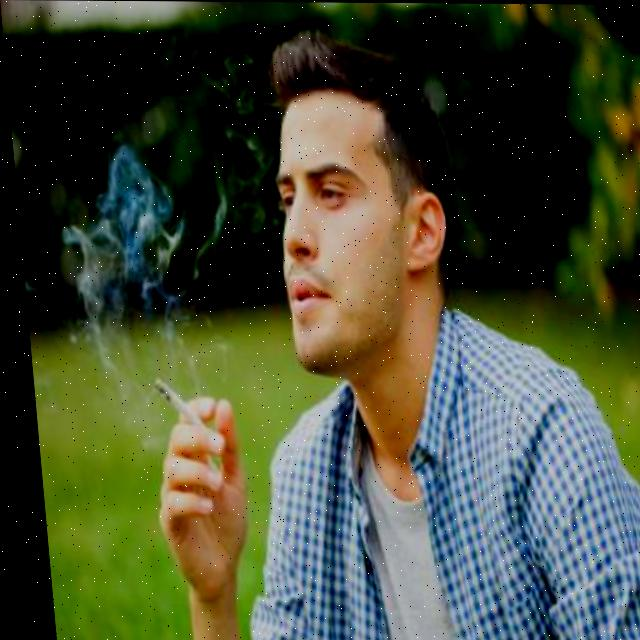cigarette: (145, 378, 195, 425)
